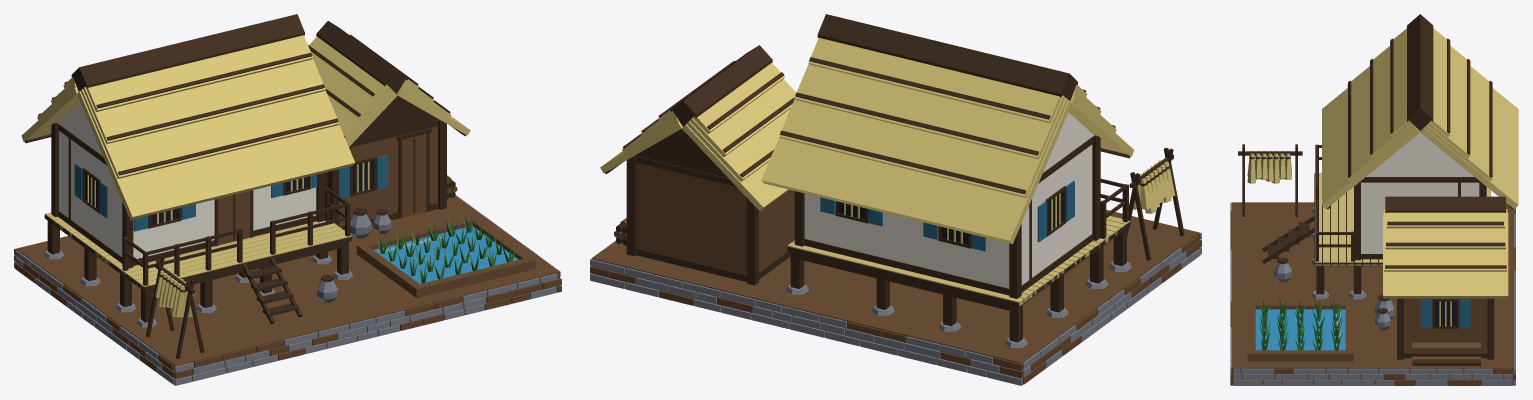
3 renders of one model, left to right at view 1: azimuth 30°, elevation 25°; view 2: azimuth 150°, elevation 25°; view 3: azimuth 270°, elevation 25°, orthographic. The views are drawn at different scales.
Parts seen in each view (by area): view 1: main_roof-straw, terrace-earth-brown, main_house-warm-white, main_roof-dark-wood, terrace-mid-grey, kitchen_roof-straw, railing-dark-wood, floor-straw, seedbed-earth-brown, main_house-dark-wood, kitchen_house-dark-wood, seedbed-water-mirror (+15 smaller); view 2: main_roof-straw, terrace-earth-brown, main_house-warm-white, kitchen_house-earth-brown, terrace-mid-grey, main_roof-dark-wood, kitchen_roof-straw, kitchen_house-dark-wood, main_house-dark-wood, posts-dark-wood, kitchen_roof-dark-wood, floor-straw (+8 smaller); view 3: terrace-earth-brown, main_roof-straw, kitchen_roof-straw, main_house-warm-white, main_roof-dark-wood, terrace-mid-grey, kitchen_roof-dark-wood, seedbed-water-mirror, seedbed-earth-brown, kitchen_house-earth-brown, floor-straw, railing-dark-wood (+15 smaller).
Part boxes in pixels (bbox=[...]): main_roof-straw: bbox=[21, 35, 355, 219]; terrace-earth-brown: bbox=[14, 196, 561, 381]; main_house-warm-white: bbox=[57, 102, 316, 258]; main_roof-dark-wood: bbox=[25, 14, 338, 175]; terrace-mid-grey: bbox=[14, 195, 560, 385]; kitchen_roof-straw: bbox=[309, 36, 470, 146]; railing-dark-wood: bbox=[122, 187, 350, 323]; floor-straw: bbox=[45, 212, 351, 289]; seedbed-earth-brown: bbox=[356, 216, 535, 297]; main_house-dark-wood: bbox=[51, 122, 325, 268]; kitchen_house-dark-wood: bbox=[328, 95, 446, 230]; seedbed-water-mirror: bbox=[373, 226, 518, 283]; main_roof-straw: bbox=[761, 38, 1133, 243]; terrace-earth-brown: bbox=[590, 210, 1201, 384]; main_house-warm-white: bbox=[804, 112, 1094, 288]; kitchen_house-earth-brown: bbox=[636, 163, 794, 275]; terrace-mid-grey: bbox=[590, 232, 1201, 385]; main_roof-dark-wood: bbox=[780, 14, 1130, 194]; kitchen_roof-straw: bbox=[600, 63, 796, 211]; kitchen_house-dark-wood: bbox=[626, 129, 790, 285]; main_house-dark-wood: bbox=[794, 135, 1100, 298]; posts-dark-wood: bbox=[790, 229, 1126, 342]; kitchen_roof-dark-wood: bbox=[605, 45, 794, 211]; floor-straw: bbox=[787, 216, 1130, 305]; terrace-earth-brown: bbox=[1230, 202, 1515, 385]; main_roof-straw: bbox=[1322, 28, 1518, 209]; kitchen_roof-straw: bbox=[1383, 209, 1508, 298]; main_house-warm-white: bbox=[1361, 132, 1479, 253]; main_roof-dark-wood: bbox=[1327, 14, 1513, 209]; terrace-mid-grey: bbox=[1230, 202, 1515, 385]; kitchen_roof-dark-wood: bbox=[1385, 196, 1506, 268]; seedbed-water-mirror: bbox=[1255, 309, 1345, 350]; seedbed-earth-brown: bbox=[1247, 302, 1353, 361]; kitchen_house-earth-brown: bbox=[1404, 298, 1487, 352]; floor-straw: bbox=[1315, 172, 1490, 265]; railing-dark-wood: bbox=[1262, 144, 1354, 263].
Bounding box in the file's own units: 10.08 × 5.92 × 7.35.
